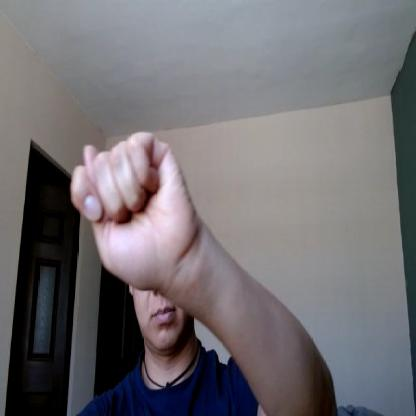T: (70, 126, 194, 285)
